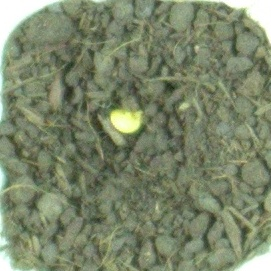pepper seed: (34, 39, 181, 173)
